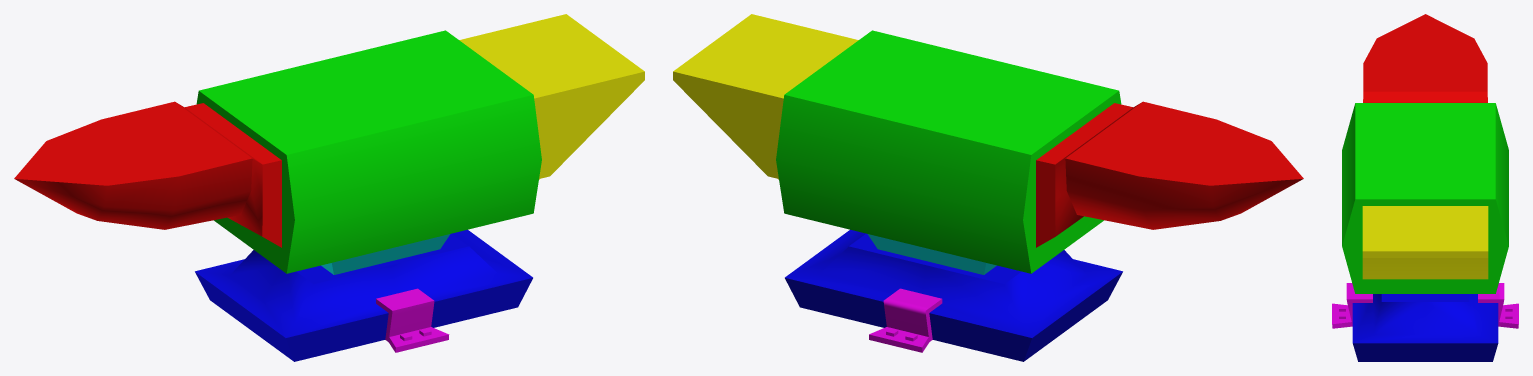
The model's file is modelanvil.fbx.
3 renders of one model, left to right at view 1: azimuth 30°, elevation 25°; view 2: azimuth 150°, elevation 25°; view 3: azimuth 270°, elevation 25°, orthographic. The views are drawn at different scales.
Visible parts, largest first — view 1: nak, krep; view 2: nak, krep; view 3: nak, krep.
Boxes of the visible parts, box(x1,y1,x2,y2) form: nak: box(14, 14, 644, 361); krep: box(376, 288, 449, 352); nak: box(673, 14, 1303, 361); krep: box(869, 288, 942, 352); nak: box(1342, 14, 1508, 361); krep: box(1332, 283, 1518, 328).
Size of the model in its own units: 212 by 71.95 by 72.42.
